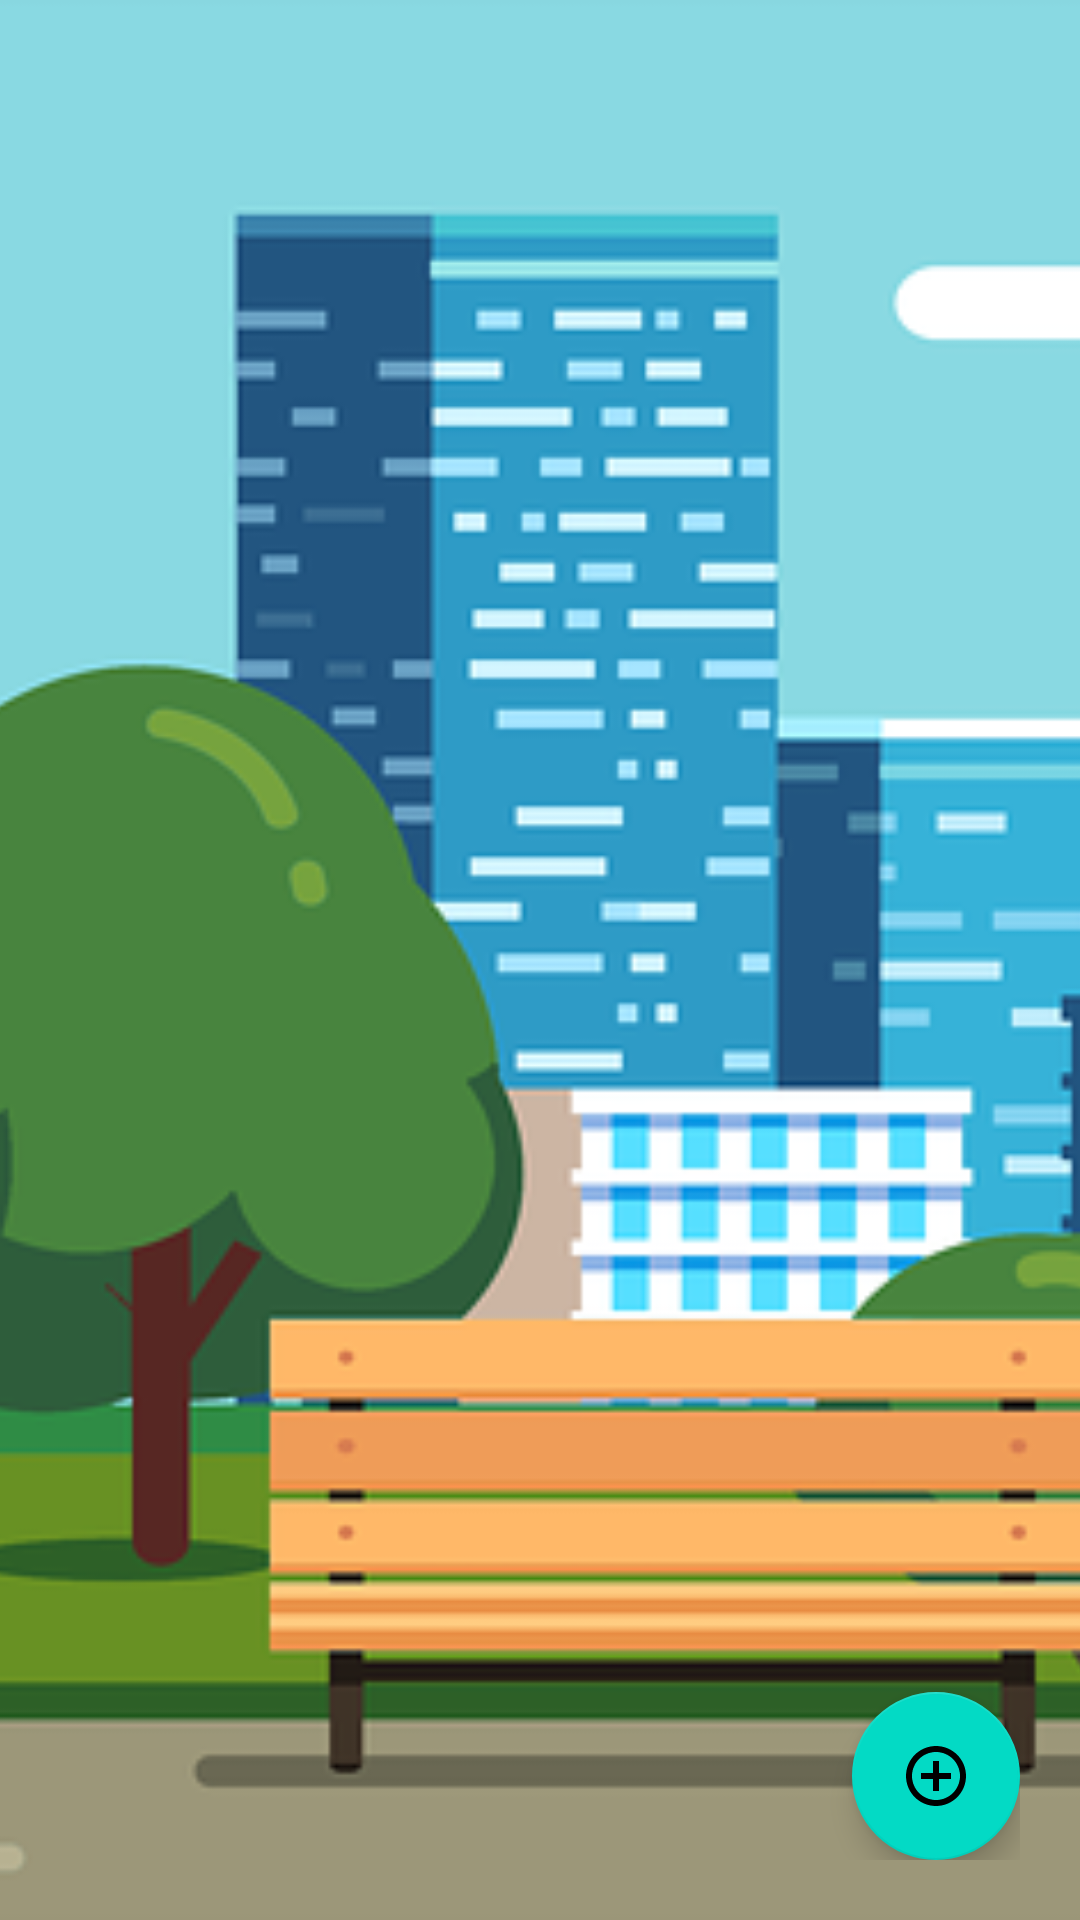

Screen size 1080px×1920px. Icon name, then its center in pixels as point (x, y):
addeventfab: point (936, 1776)
